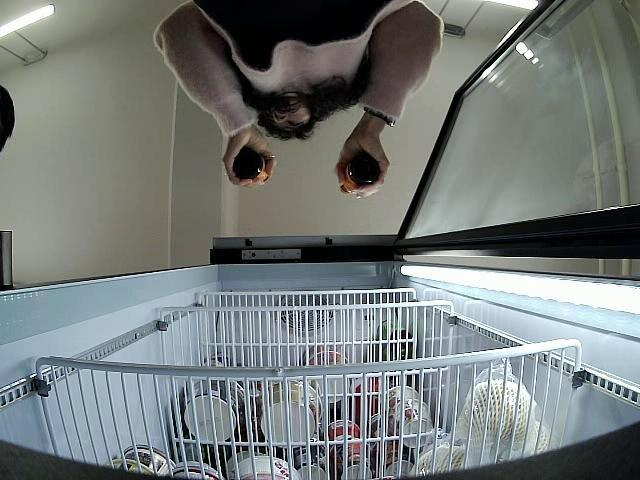17_vita500: (341, 154, 384, 196), (233, 150, 270, 184)
